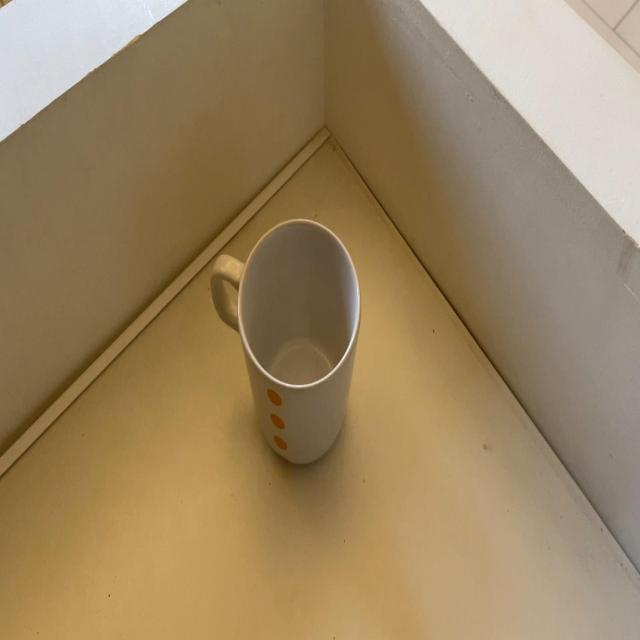cup: (214, 218, 364, 466)
